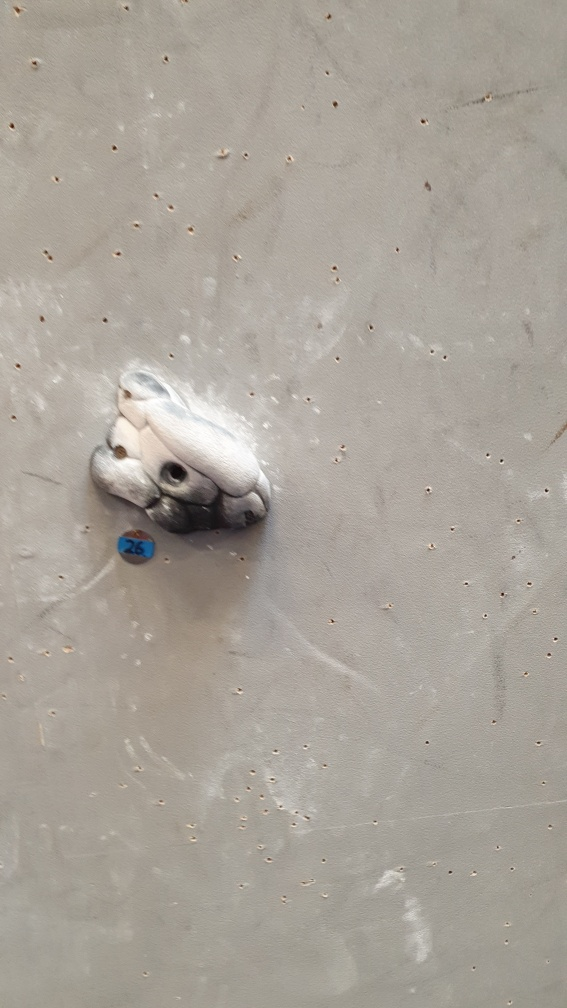Hand Start: (112, 525, 158, 567)
Jug: (87, 369, 276, 536)
